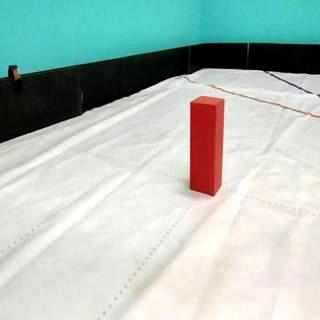redbox: (188, 94, 224, 197)
